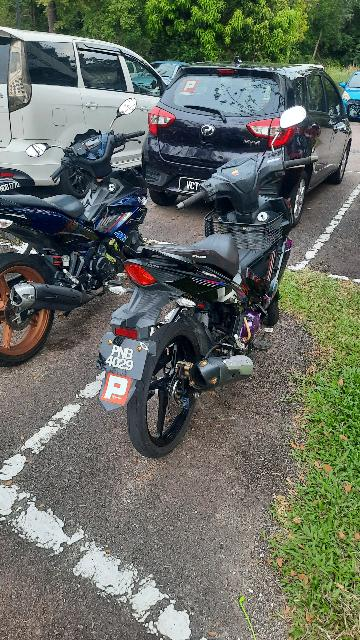License_Plate: (100, 330, 155, 385)
car: (147, 61, 356, 216), (2, 22, 181, 190)
motorcycle: (102, 105, 324, 463), (1, 86, 153, 361)
